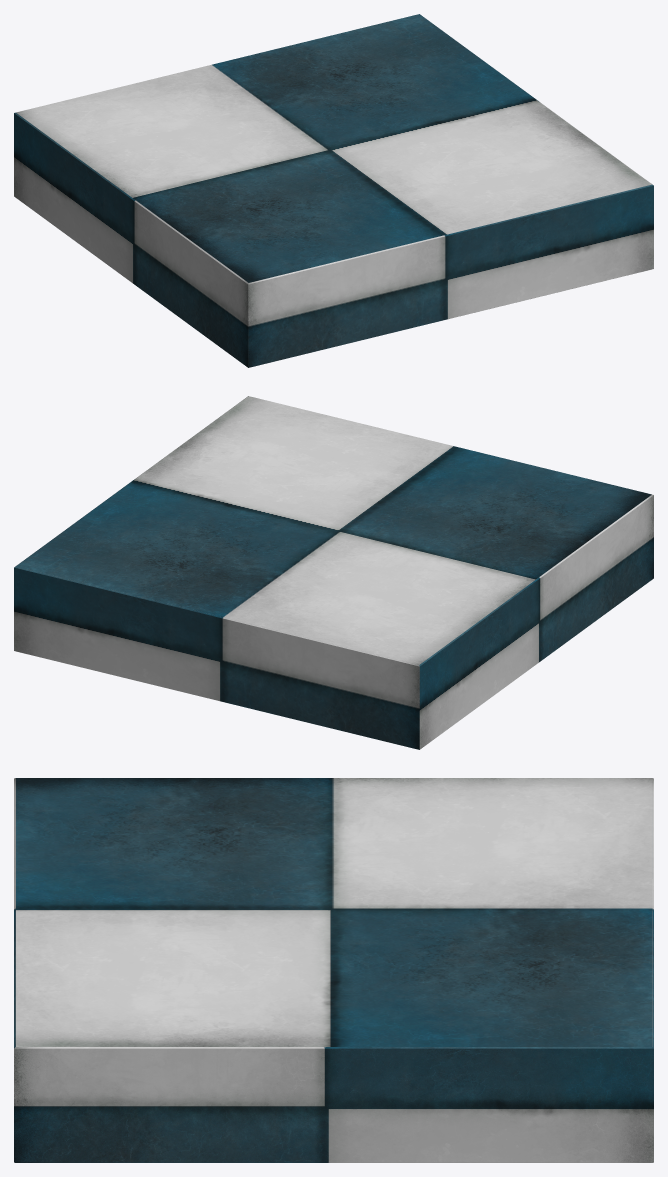
Rendered from floor_Update.fbx.
3 renders of one model, top to bottom at view 1: azimuth 30°, elevation 25°; view 2: azimuth 150°, elevation 25°; view 3: azimuth 270°, elevation 25°, orthographic. The views are drawn at different scales.
Parts seen in each view (by area): view 1: Cube; view 2: Cube; view 3: Cube.
Boxes of the visible parts, <box> form: Cube: <box>14,14,653,367</box>; Cube: <box>14,396,653,749</box>; Cube: <box>14,778,653,1162</box>.
Bounding box in the file's own units: 300 × 60 × 300.
